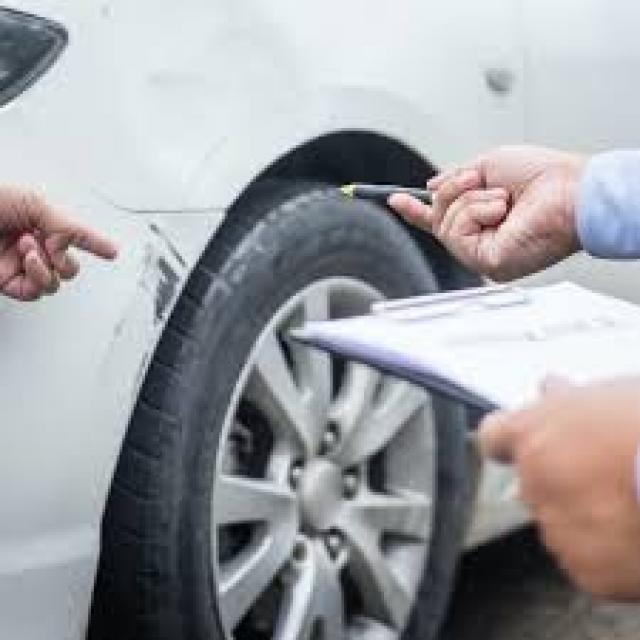minor: (130, 217, 208, 328)
